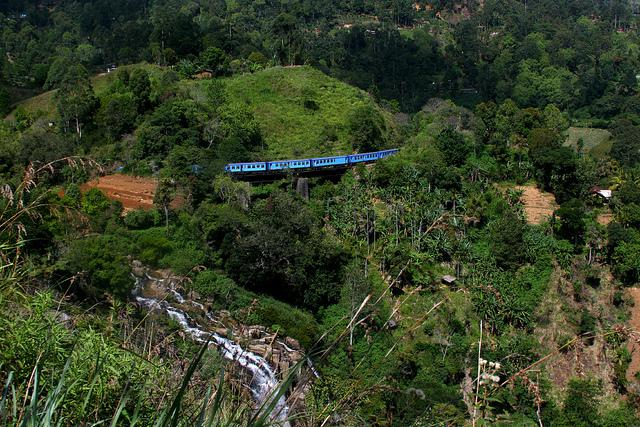Train: (226, 148, 401, 175)
